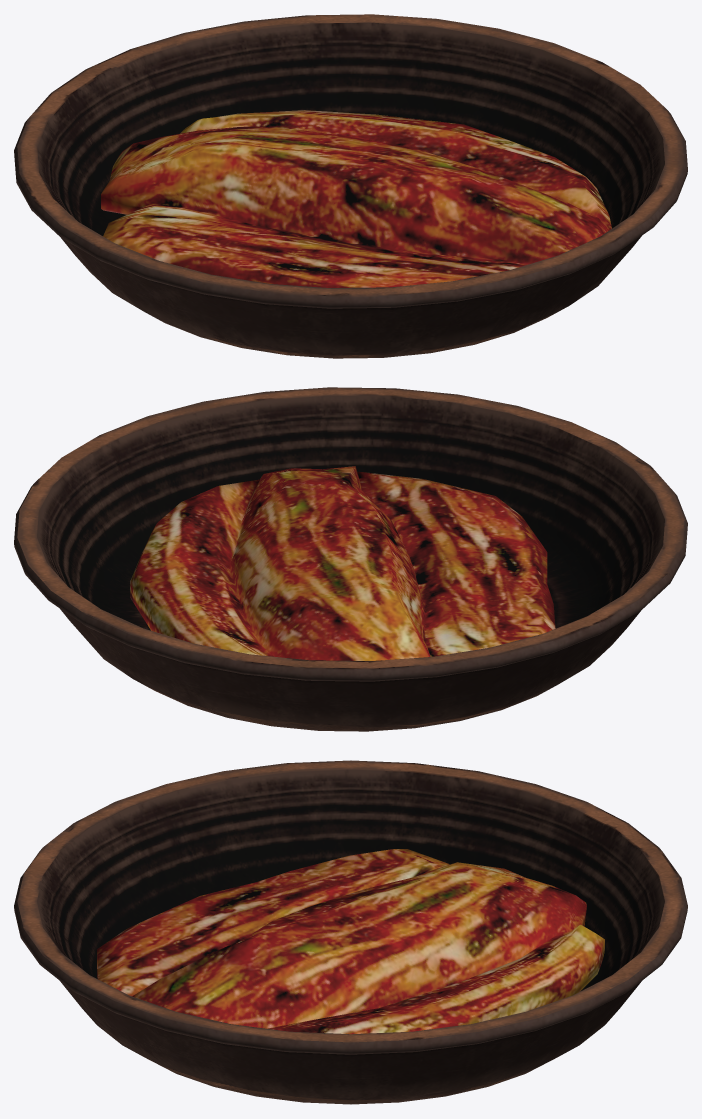
File: kimchi.glb
3 renders of one model, top to bottom at view 1: azimuth 30°, elevation 25°; view 2: azimuth 150°, elevation 25°; view 3: azimuth 270°, elevation 25°, orthographic.
Parts seen in each view (by area): view 1: SM_Basin, SM_Kimchi; view 2: SM_Basin, SM_Kimchi; view 3: SM_Basin, SM_Kimchi.
Boxes of the visible parts, x1=… form: SM_Basin: x1=14, y1=14, x2=687, y2=358; SM_Kimchi: x1=101, y1=110, x2=611, y2=287; SM_Basin: x1=14, y1=387, x2=687, y2=731; SM_Kimchi: x1=130, y1=466, x2=555, y2=660; SM_Basin: x1=14, y1=760, x2=687, y2=1104; SM_Kimchi: x1=97, y1=849, x2=604, y2=1034.
Size of the model in its own units: 0.6927 by 0.112 by 0.6927.
2 materials, 2 textured.
